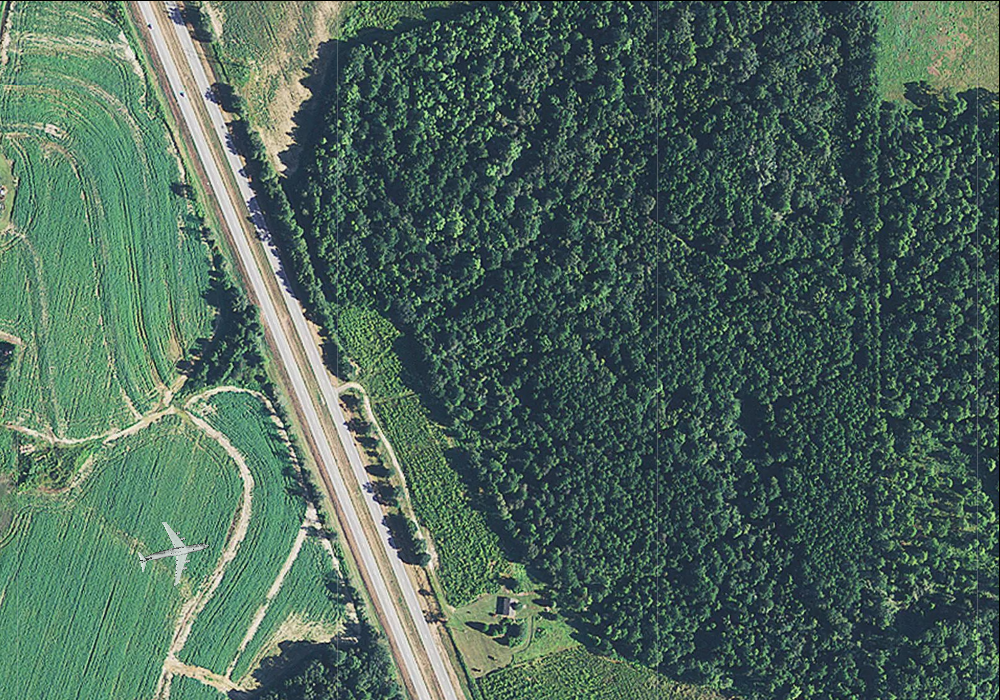plane: (130, 513, 215, 594)
